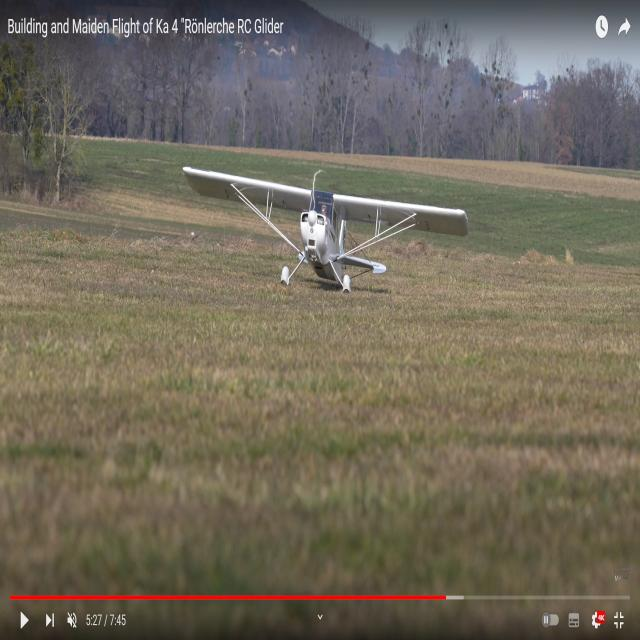iha: (179, 160, 465, 291)
